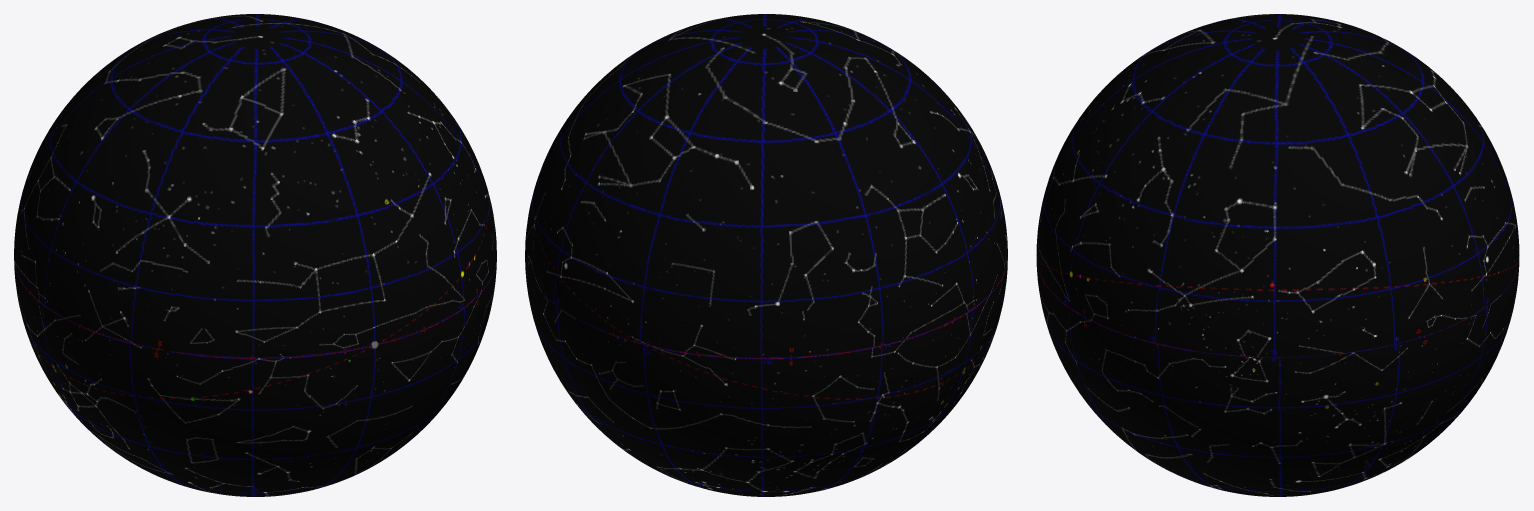
File: Firmament.obj
3 views of the same model, side by side, from view 1: azimuth 30°, elevation 25°; view 2: azimuth 150°, elevation 25°; view 3: azimuth 270°, elevation 25° (orthographic).
Visible parts, largest first — view 1: Sphere; view 2: Sphere; view 3: Sphere.
Boxes of the visible parts, x1,y1,x2,y2 form: Sphere: [14, 14, 496, 496]; Sphere: [525, 14, 1007, 496]; Sphere: [1036, 14, 1519, 496].
Bounding box in the file's own units: 2 × 2 × 2.
Materials: 1 (1 with a texture image).
